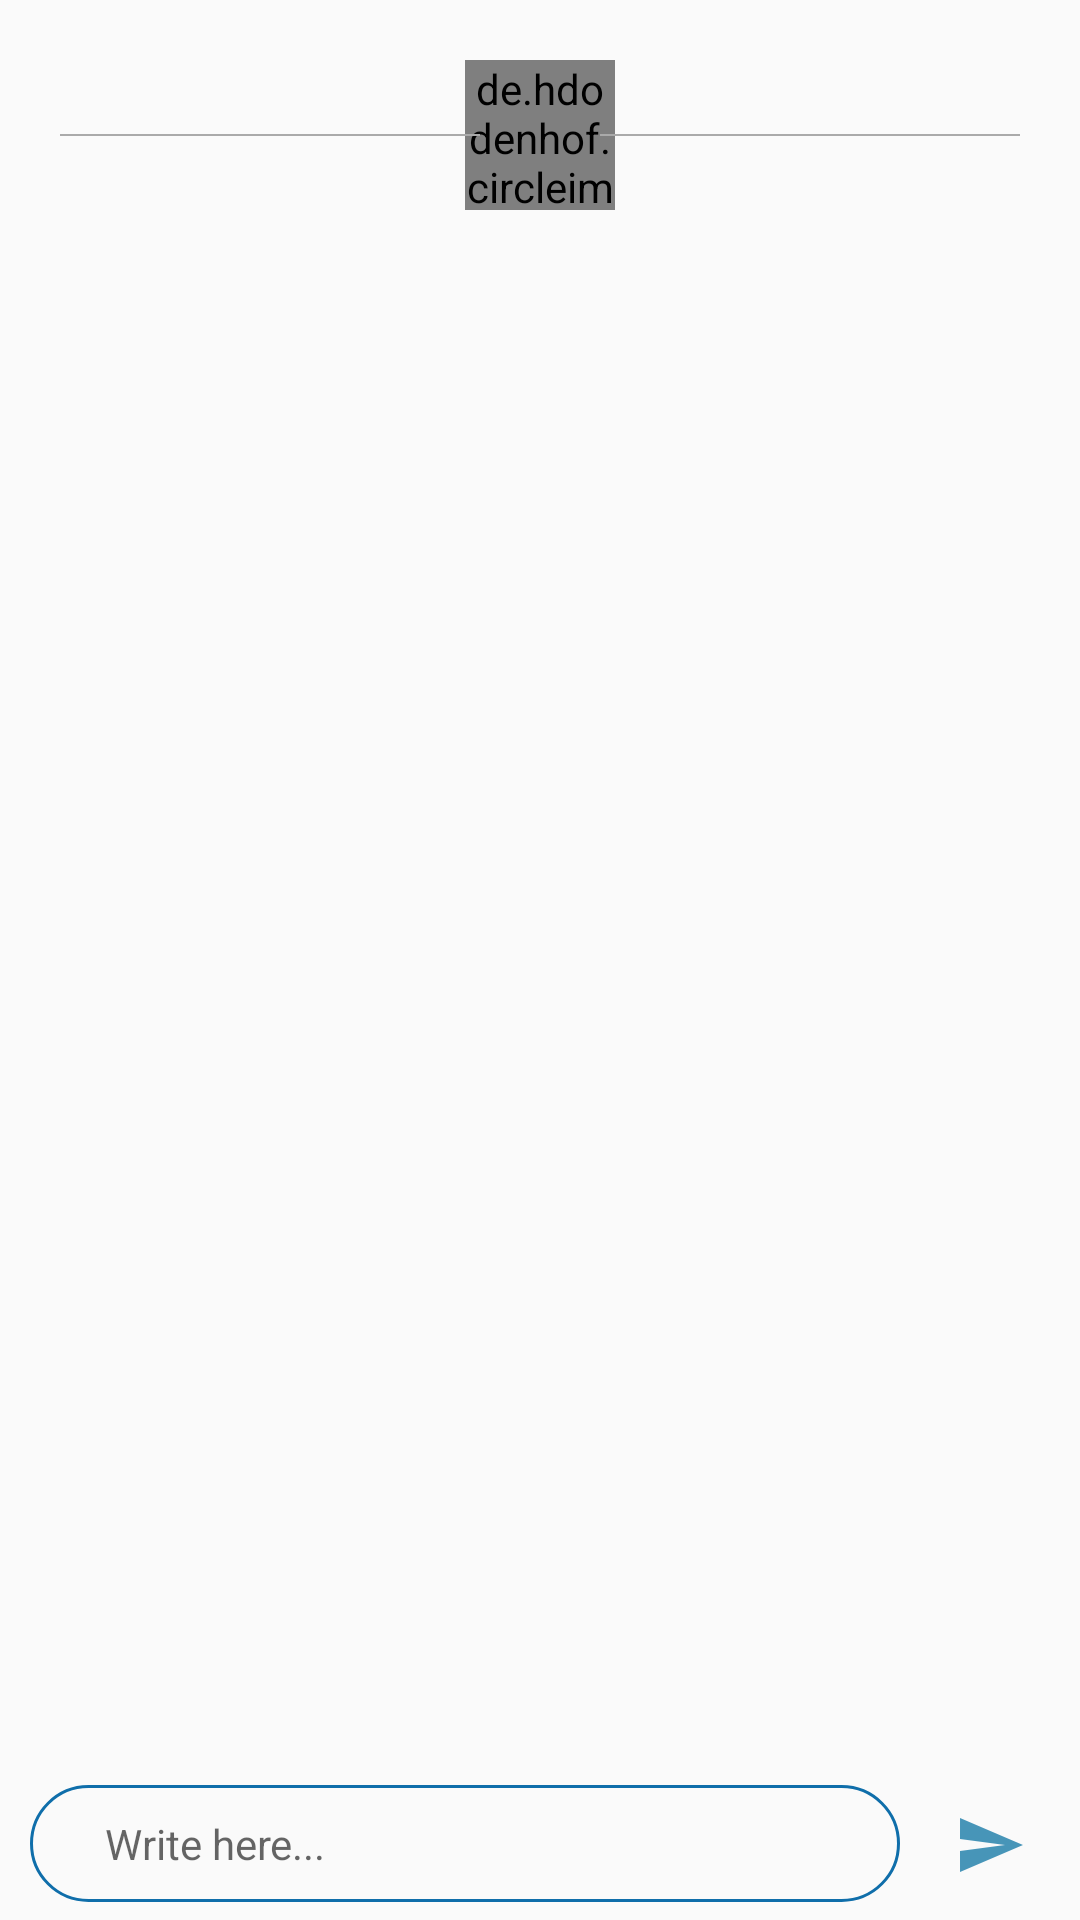

Where to tap for icons on this 1080x1920 app screen, as (x,y):
send: (991,1845)
